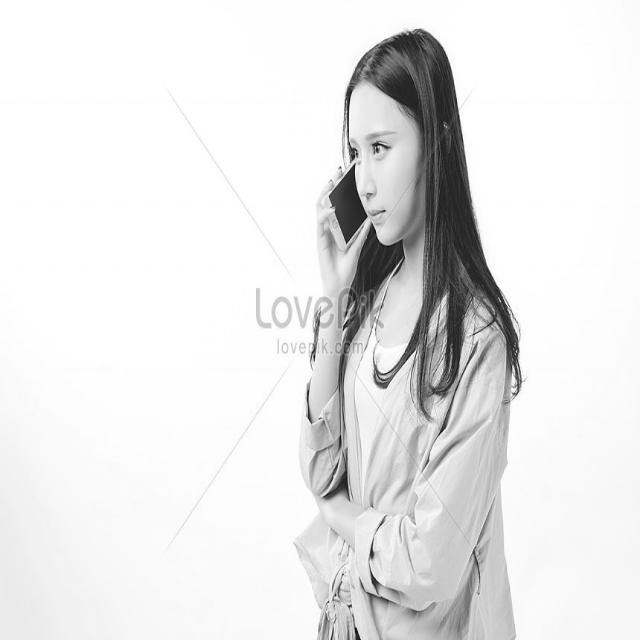phone: (312, 128, 370, 262)
